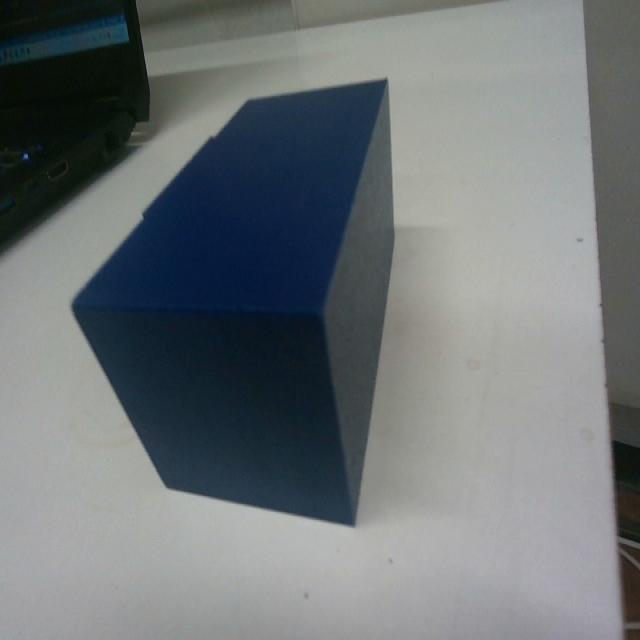Blue Cuboid: (70, 73, 398, 527)
